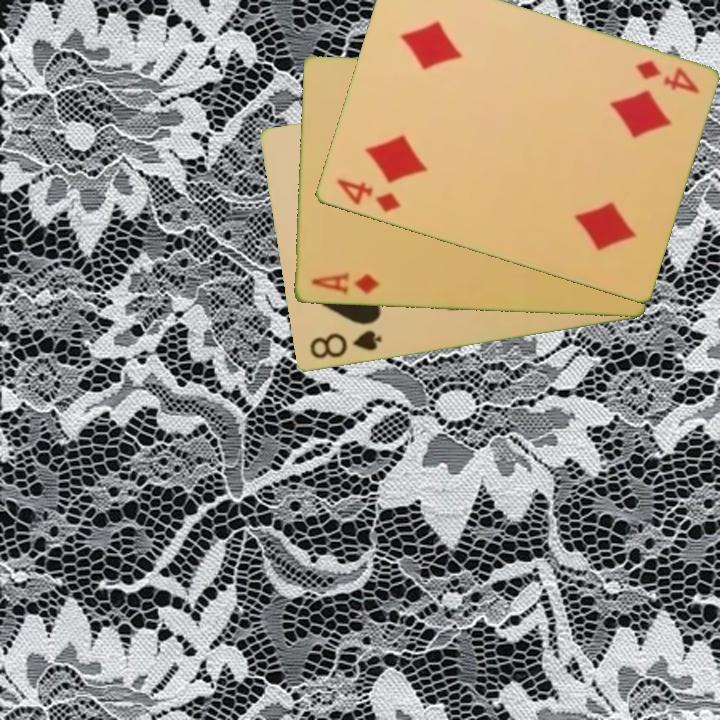4d: (631, 56, 702, 98), (333, 175, 403, 216)
8s: (306, 327, 384, 362)
Ad: (307, 269, 382, 298)
